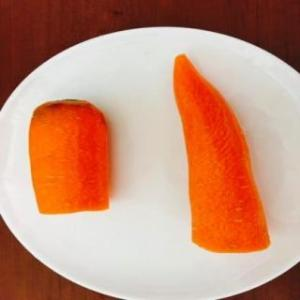carrot: (163, 52, 274, 254), (26, 96, 116, 220)
